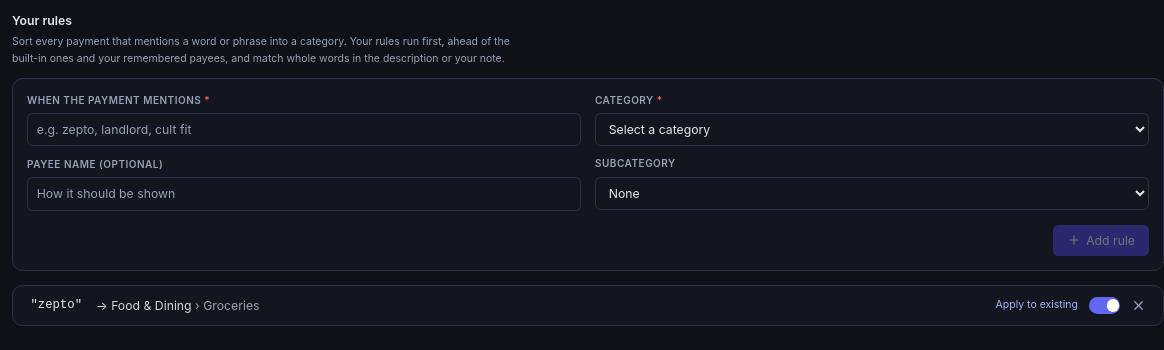
Test: UserRules › pauses and removes a rule
This screenshot has width=1164, height=350.
Click the switch named "Pause rule \"zepto\"" at (1104, 305), box [1088,297,1120,314]
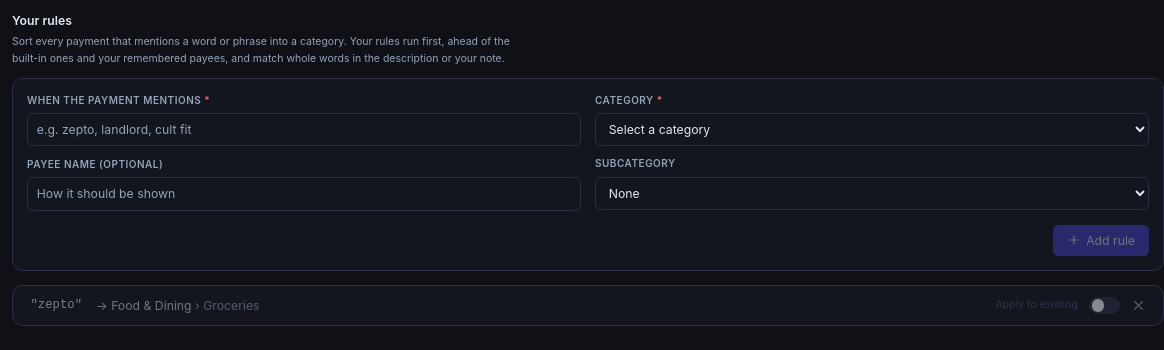
Click the button named "Remove rule \"zepto\"" at (1138, 305), box [1130,298,1146,313]
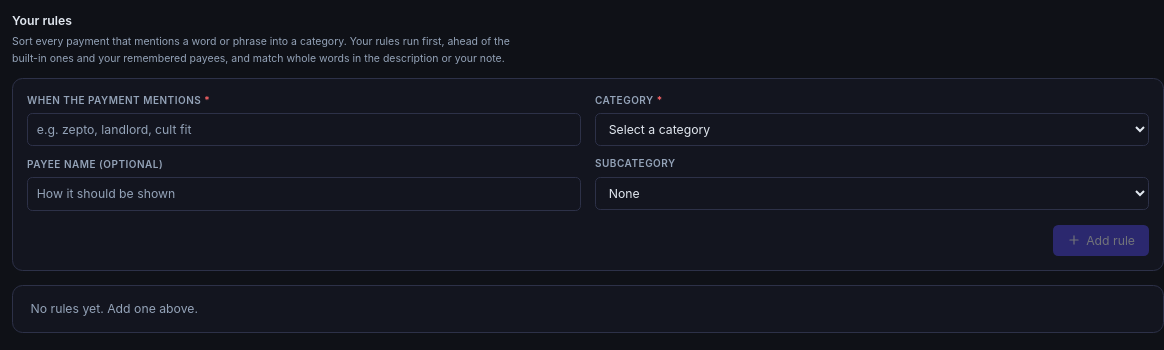
Now the text "\"zepto\"" is gone
